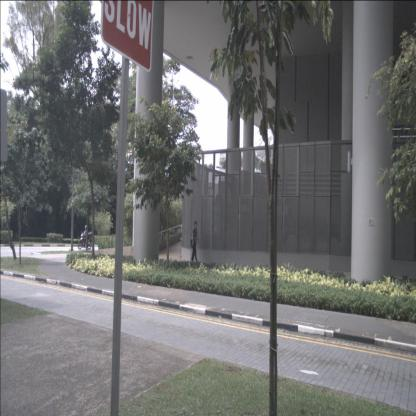human-pedestrian-adult: (190, 221, 200, 264)
vehicle-motorcycle: (78, 225, 93, 250)
